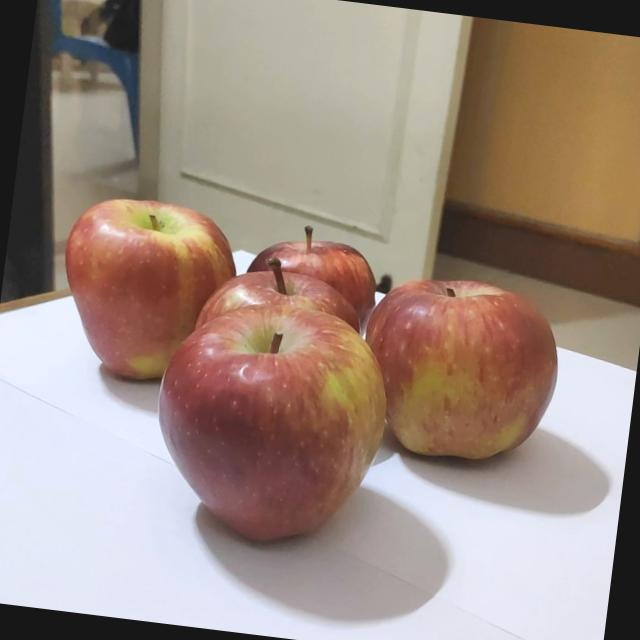apple: (136, 283, 404, 561), (354, 264, 571, 478), (44, 183, 246, 401), (180, 240, 369, 373), (235, 214, 388, 336)
